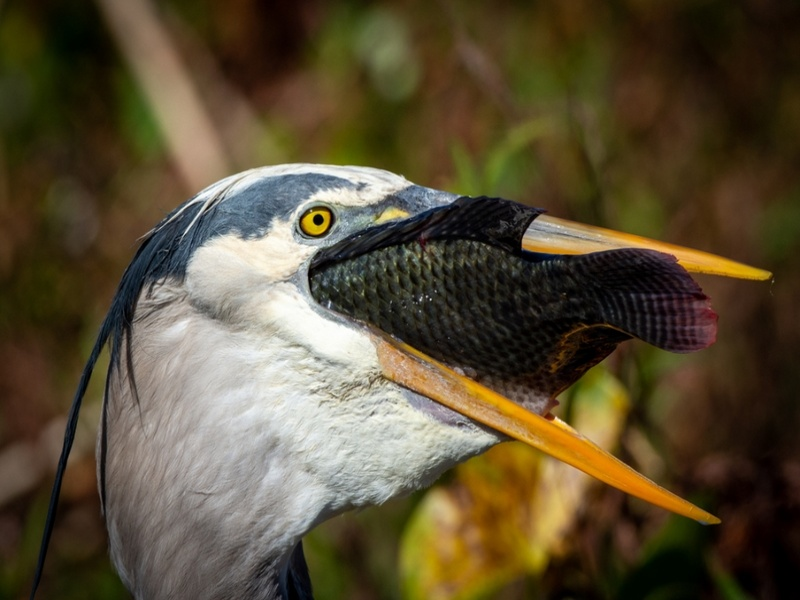heron: (86, 159, 779, 596)
